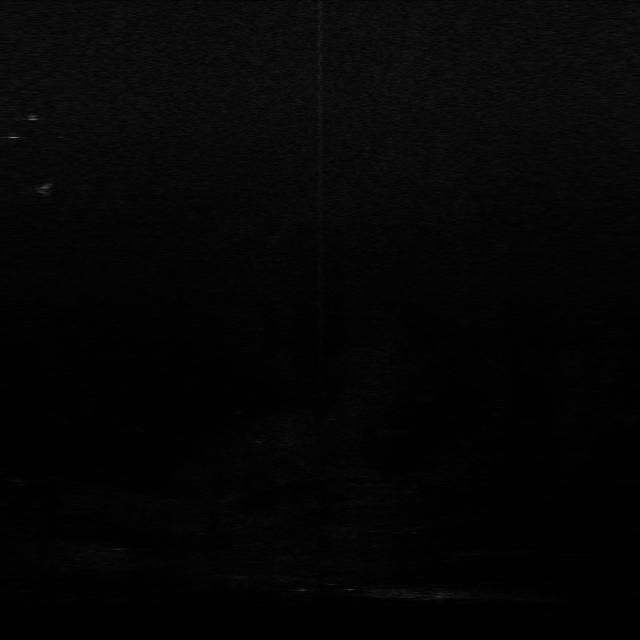rov: (32, 180, 58, 199)
